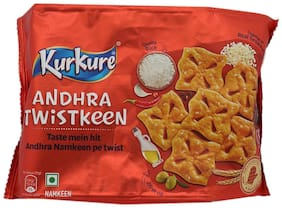kurkure: (30, 49, 127, 81)
plastic: (30, 17, 258, 189)
wrapper: (132, 46, 251, 184)
